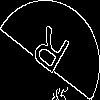R: (25, 25, 72, 83)
